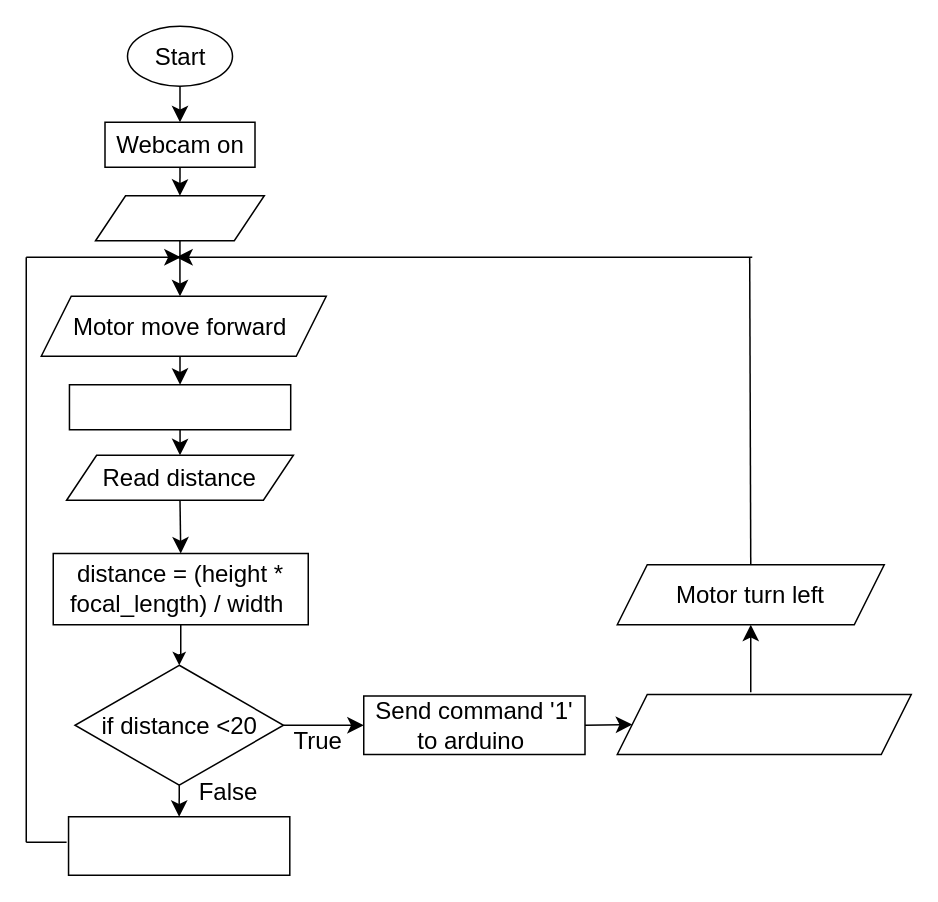
Image size: 938x902. Some labels were removed from this diagram. The centre of each missing label's shape, as x and y in pixels:
Motor move backward: pixel 763 723
Object detect: pixel 179 406
Send command '0' to arduino: pixel 178 845
Switch on: pixel 179 217
